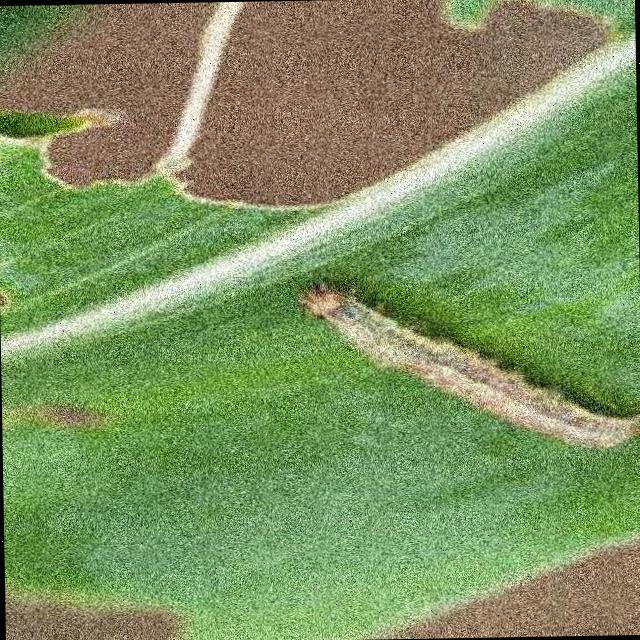worm: (298, 275, 640, 457)
